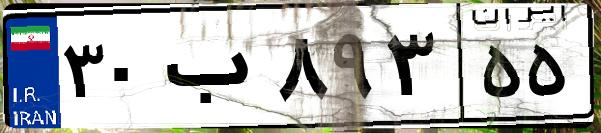0: (110, 28, 158, 98)
3: (385, 28, 445, 110), (57, 26, 110, 100)
5: (475, 38, 525, 113), (525, 38, 570, 115)
8: (270, 28, 330, 110)
9: (330, 28, 385, 110)
ب: (158, 20, 270, 120)
